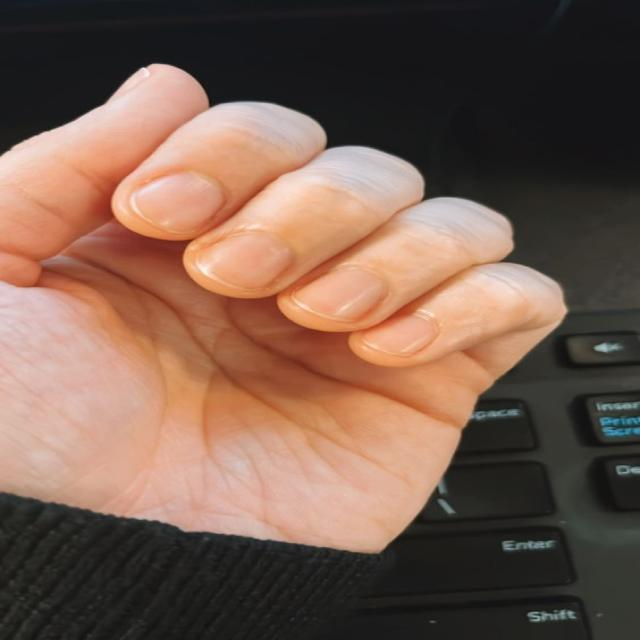Fingernail: (197, 232, 293, 290), (133, 173, 224, 234), (295, 267, 386, 320), (362, 314, 436, 355), (108, 70, 147, 100)
